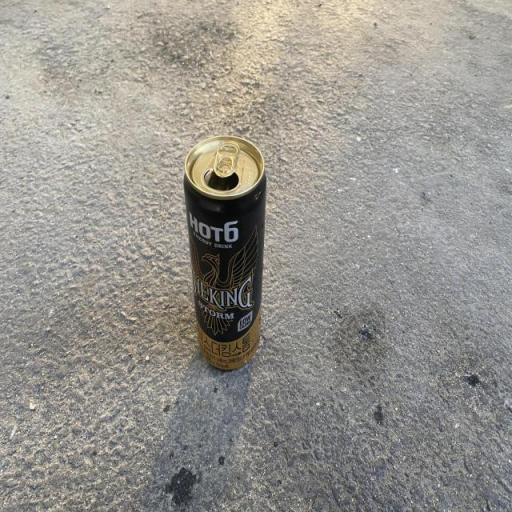metal: (172, 126, 280, 380)
